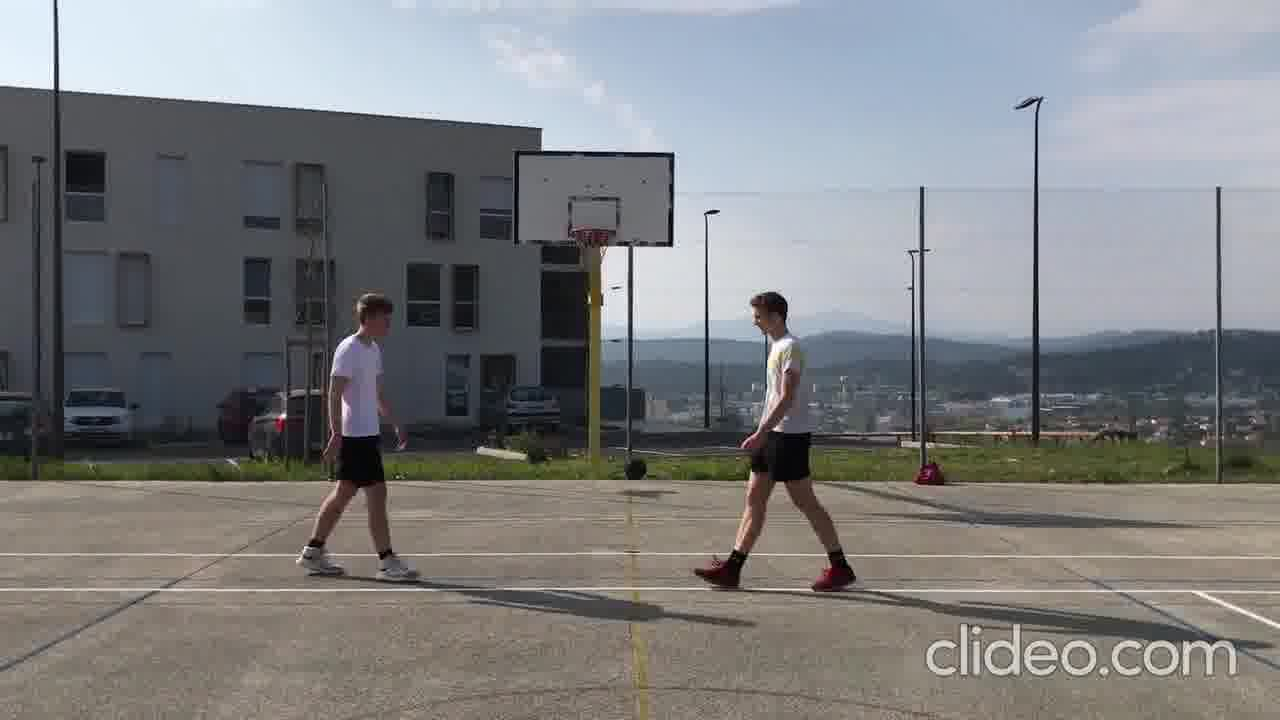jugador: (681, 282, 868, 603)
